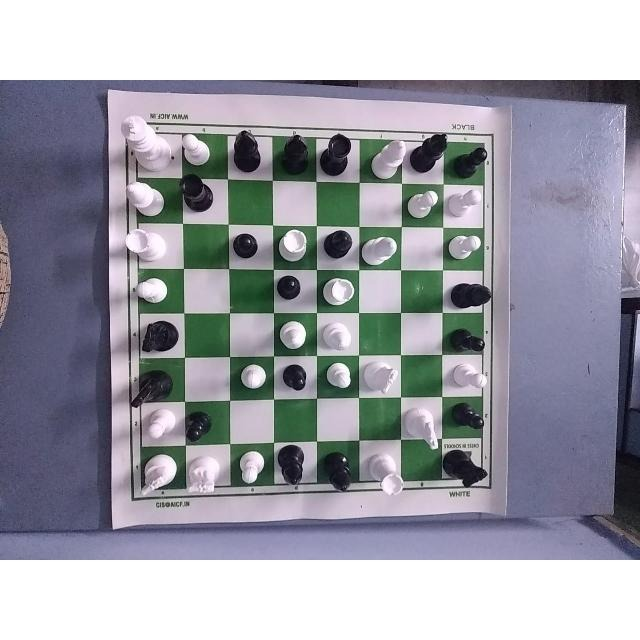black-bishop: (408, 128, 450, 180), (227, 127, 265, 179), (275, 127, 312, 179), (445, 278, 497, 312), (319, 223, 356, 268), (324, 444, 356, 496), (276, 445, 312, 489)
black-knight: (443, 448, 493, 489), (126, 369, 174, 409), (135, 319, 182, 359)
black-pawn: (230, 224, 270, 267), (451, 402, 492, 441), (446, 323, 490, 357), (453, 142, 488, 182), (277, 270, 307, 313), (182, 407, 215, 446), (279, 357, 309, 399)
black-rook: (175, 169, 217, 220), (323, 129, 357, 182)
white-bishop: (118, 179, 170, 217), (369, 138, 407, 180), (361, 230, 399, 268), (316, 317, 352, 354), (280, 320, 314, 356)
white-king: (120, 109, 172, 175)
white-knight: (133, 458, 179, 502), (185, 455, 226, 497), (405, 405, 441, 451), (364, 358, 404, 398)
white-pawn: (138, 403, 182, 446), (178, 131, 219, 173), (317, 356, 358, 396), (404, 185, 443, 223), (133, 276, 173, 312), (450, 362, 494, 394), (237, 448, 269, 490), (448, 235, 488, 268), (237, 357, 273, 393), (450, 185, 486, 221)
white-rook: (362, 450, 408, 496), (120, 223, 172, 262), (317, 274, 357, 312), (273, 230, 313, 268)
